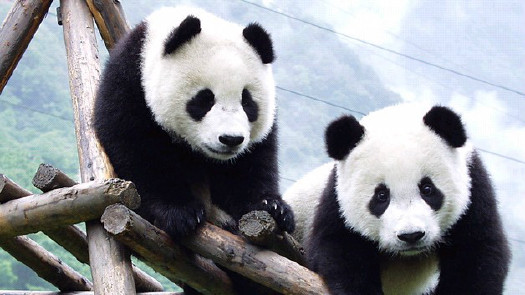panda: (91, 1, 298, 245), (306, 99, 515, 295)
